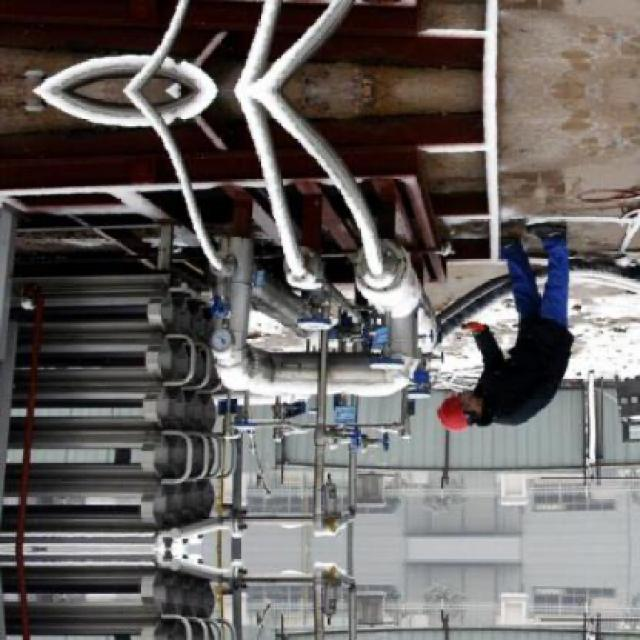con casco: (418, 370, 471, 445)
